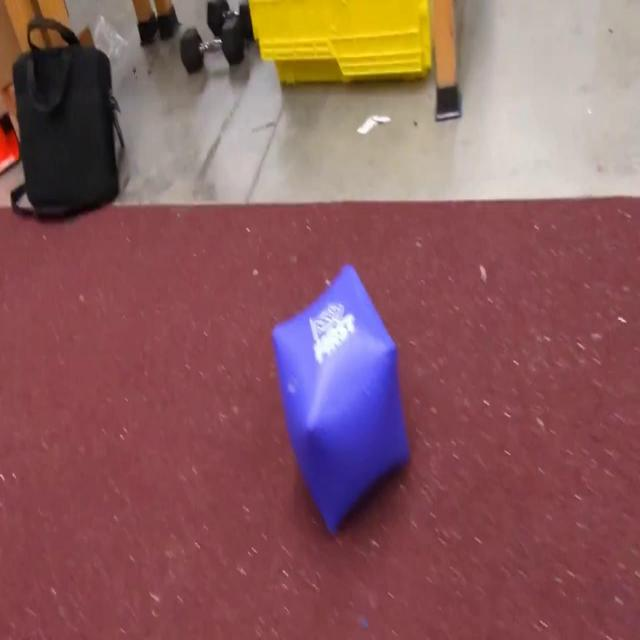frc_cube: (270, 264, 410, 535)
